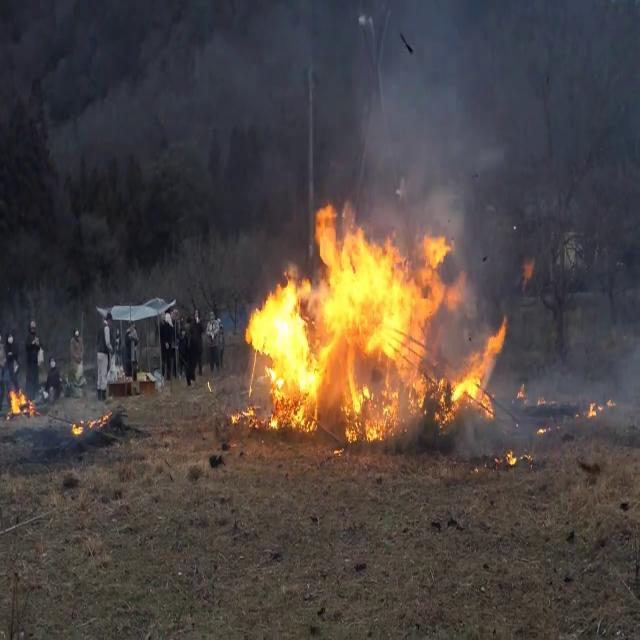Fire: (241, 193, 511, 440), (8, 382, 34, 417)
Smoke: (320, 0, 546, 245)
